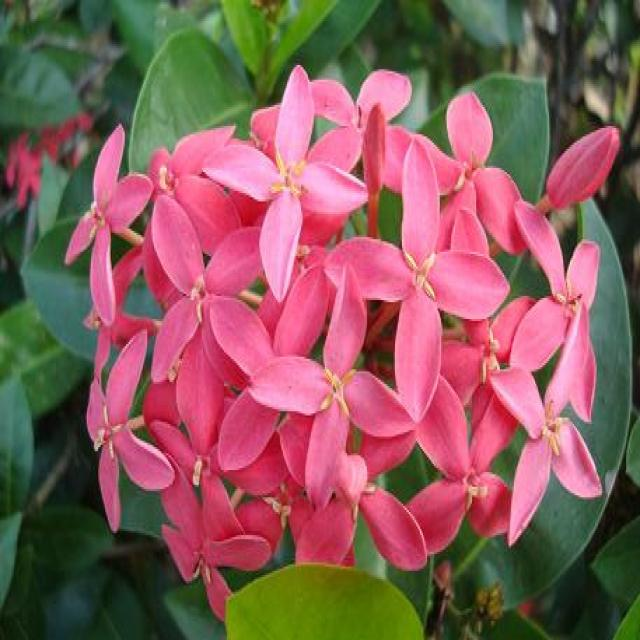Chinese-Ixora: (71, 46, 626, 615)
